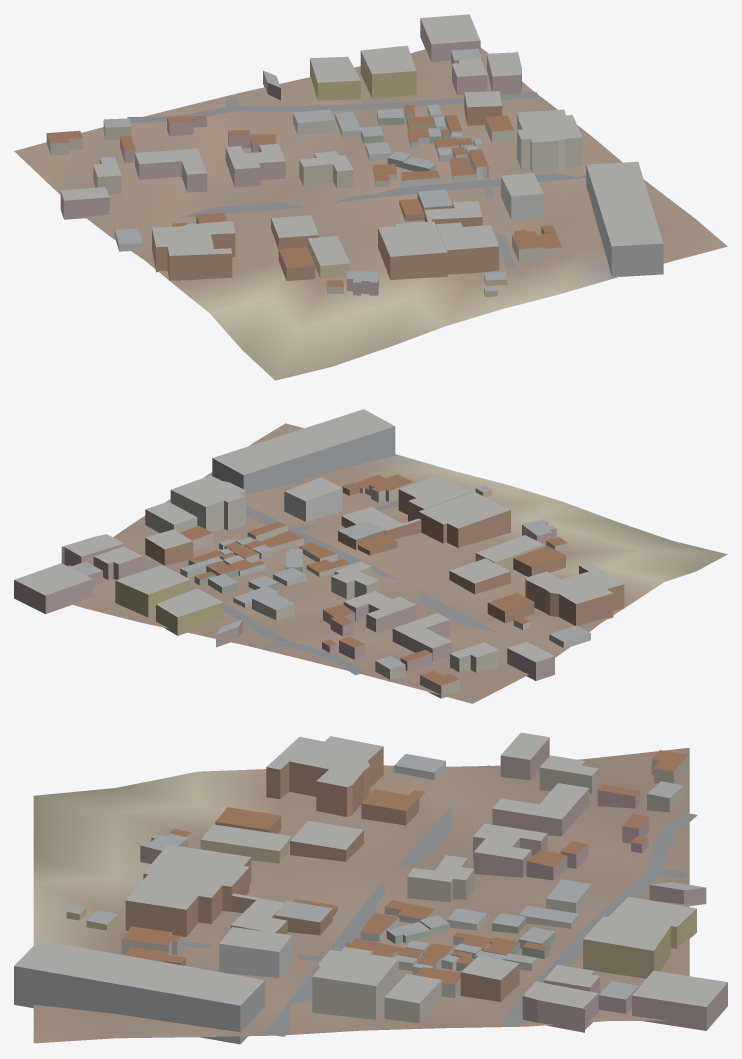
3 renders of one model, top to bottom at view 1: azimuth 30°, elevation 25°; view 2: azimuth 150°, elevation 25°; view 3: azimuth 270°, elevation 25°, orthographic. The views are drawn at different scales.
Parts seen in each view (by area): view 1: Lo; view 2: Lo; view 3: Lo.
Boxes of the visible parts, box(x1,y1,x2,y2) form: Lo: box(14, 14, 727, 380); Lo: box(14, 409, 727, 703); Lo: box(14, 732, 727, 1044).
Size of the model in its own units: 271 by 33.28 by 279.
